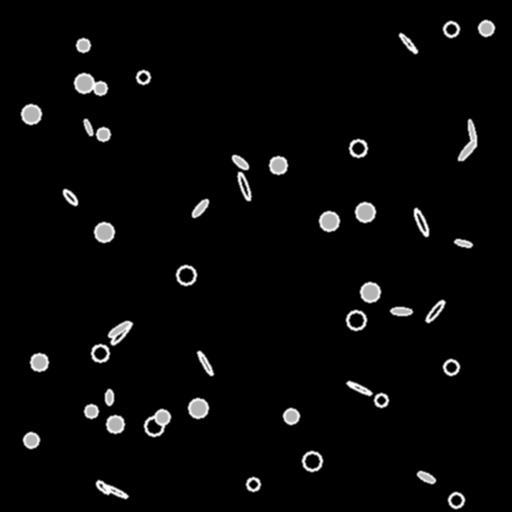pseudomonas: (109, 320, 133, 346), (412, 207, 430, 237), (424, 299, 446, 323), (236, 171, 252, 201), (457, 138, 477, 162), (398, 32, 418, 54), (107, 320, 131, 338), (346, 380, 372, 396), (102, 483, 128, 499), (197, 350, 213, 376), (191, 198, 209, 218), (61, 188, 79, 206), (231, 154, 249, 170), (467, 120, 477, 146), (95, 479, 111, 495), (417, 470, 435, 484), (390, 307, 412, 315), (83, 119, 93, 135), (455, 239, 471, 247), (106, 390, 112, 405)
synechocystis: (347, 311, 365, 329), (361, 283, 379, 301), (356, 203, 374, 221), (189, 399, 207, 417), (145, 417, 163, 435), (303, 452, 321, 470), (95, 223, 113, 241), (22, 105, 40, 123), (75, 74, 93, 92), (177, 266, 195, 284), (320, 212, 338, 230), (107, 416, 123, 432), (92, 345, 108, 361), (350, 140, 366, 156), (270, 157, 286, 173), (31, 354, 47, 370), (449, 493, 463, 507), (444, 22, 458, 36), (444, 360, 458, 374), (479, 21, 493, 35), (24, 433, 38, 447), (155, 410, 169, 424), (284, 409, 298, 423), (247, 478, 259, 490), (94, 82, 106, 94), (97, 128, 109, 140), (137, 71, 149, 83), (375, 394, 387, 406), (77, 39, 89, 51), (85, 405, 97, 417)
